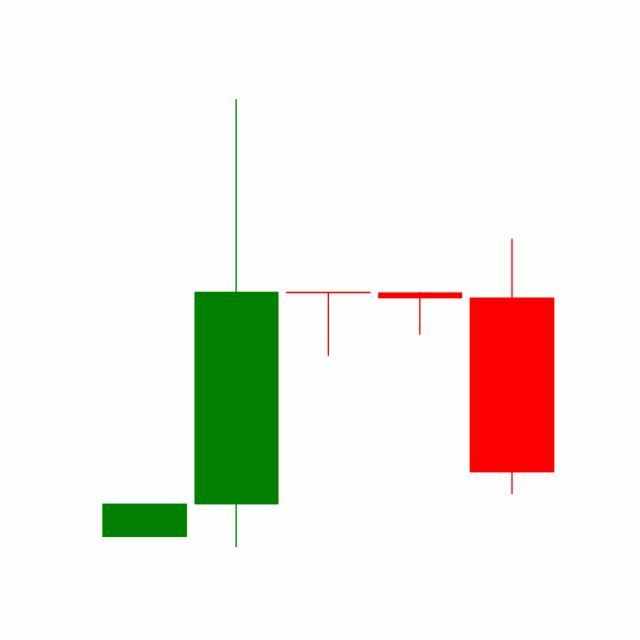Hanging Man: (374, 292, 468, 337)
